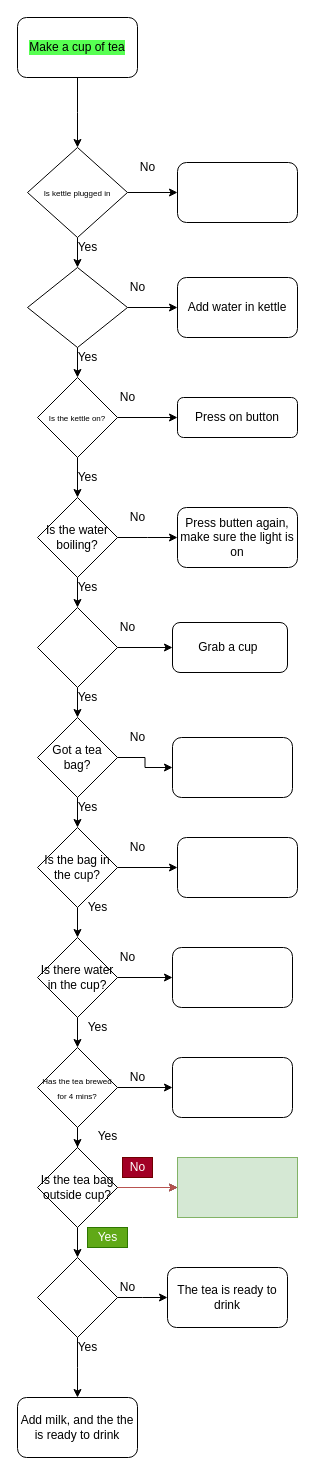
The diagram is 315 pixels wide and 1475 high, and some of its shapes have lost their labels. Here are the shapes that lost their labels. From the top down, the centre of each, then its label:
(237,192): Plug in kettle
(77,307): Is there water in the kettle
(77,647): Got a cup?
(232,767): Chose a tea bag
(237,867): Place the bag in the cup
(232,977): Pour water in the cup
(232,1087): Leave the bag for 4 mins
(237,1187): Remove teabag, and put it in a bin
(77,1297): Do you want milk?
